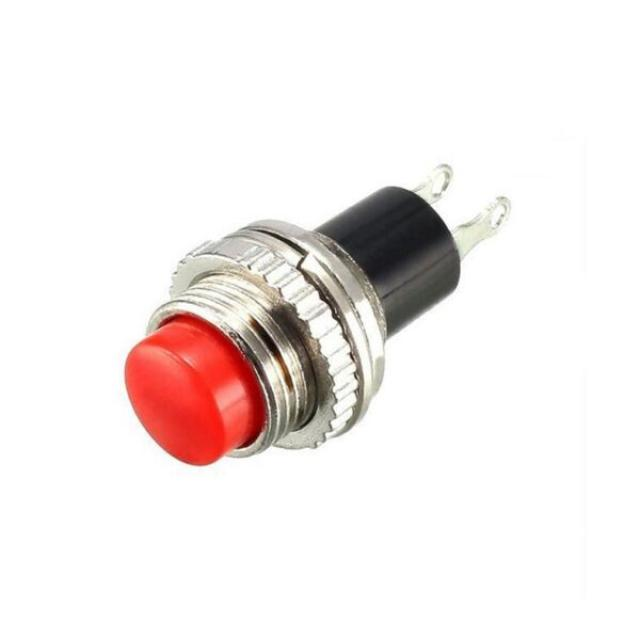Push button: (124, 163, 512, 468)
